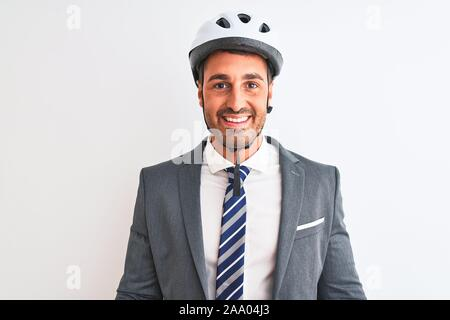helmet: (188, 10, 284, 150)
